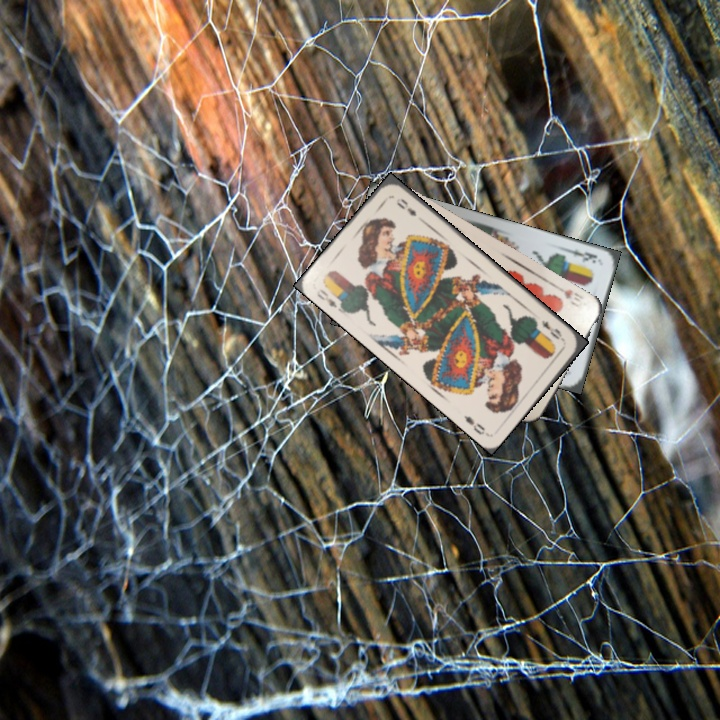EK: (562, 244, 600, 266)
EO: (312, 281, 346, 315), (537, 316, 567, 344)
H10: (552, 284, 586, 312)
